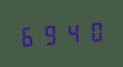four: (60, 20, 80, 45)
nine: (39, 21, 59, 47)
six: (18, 23, 38, 48)
zero: (81, 18, 101, 44)
